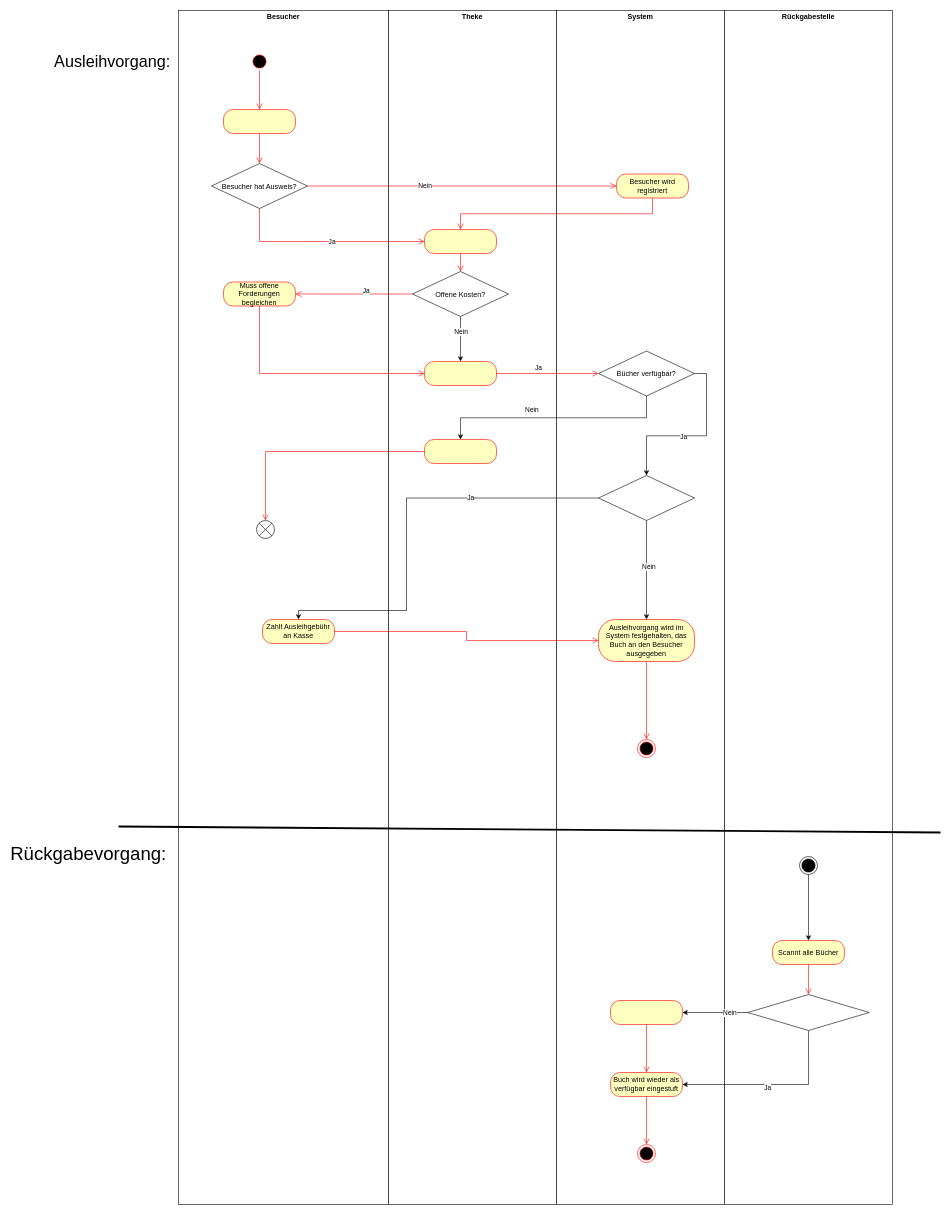
Some shapes in this 952 by 1215 pixel diagram are drawn without their labels. The shapes that lost their labels are listed below. From the top down, each one's centre as x and y in pixels, then its label:
At (259,121): "Wählt Bücher aus".
At (460,241): "Ausweis wird geprüft".
At (460,373): "Bücher werden auf Verfügbarkeit geprüft".
At (460,451): "Vorgang wird abgebrochen, Kunde wird informiert".
At (646,497): "Auslaihgebühr fällig?".
At (646,1012): "Mahngebühr wird Benutzerkonto hinzugefügt".
At (808,1012): "Rückgabe rechtzeitig?".
